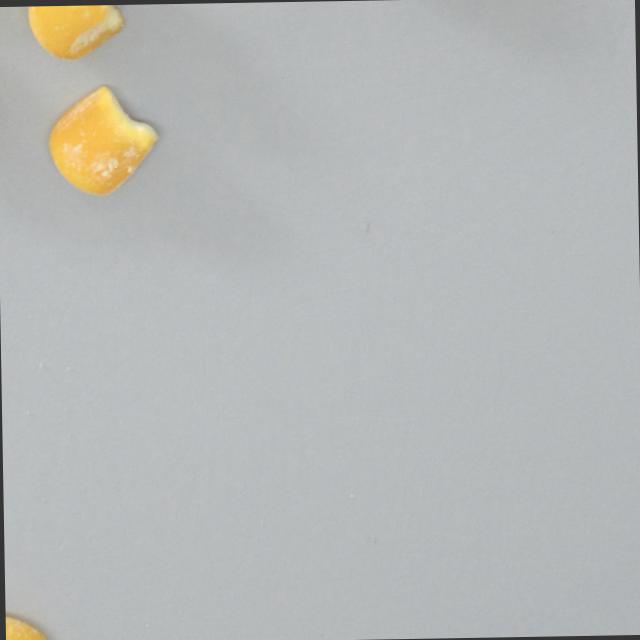pelicula: (45, 83, 161, 197), (24, 3, 129, 62), (5, 609, 56, 640)
